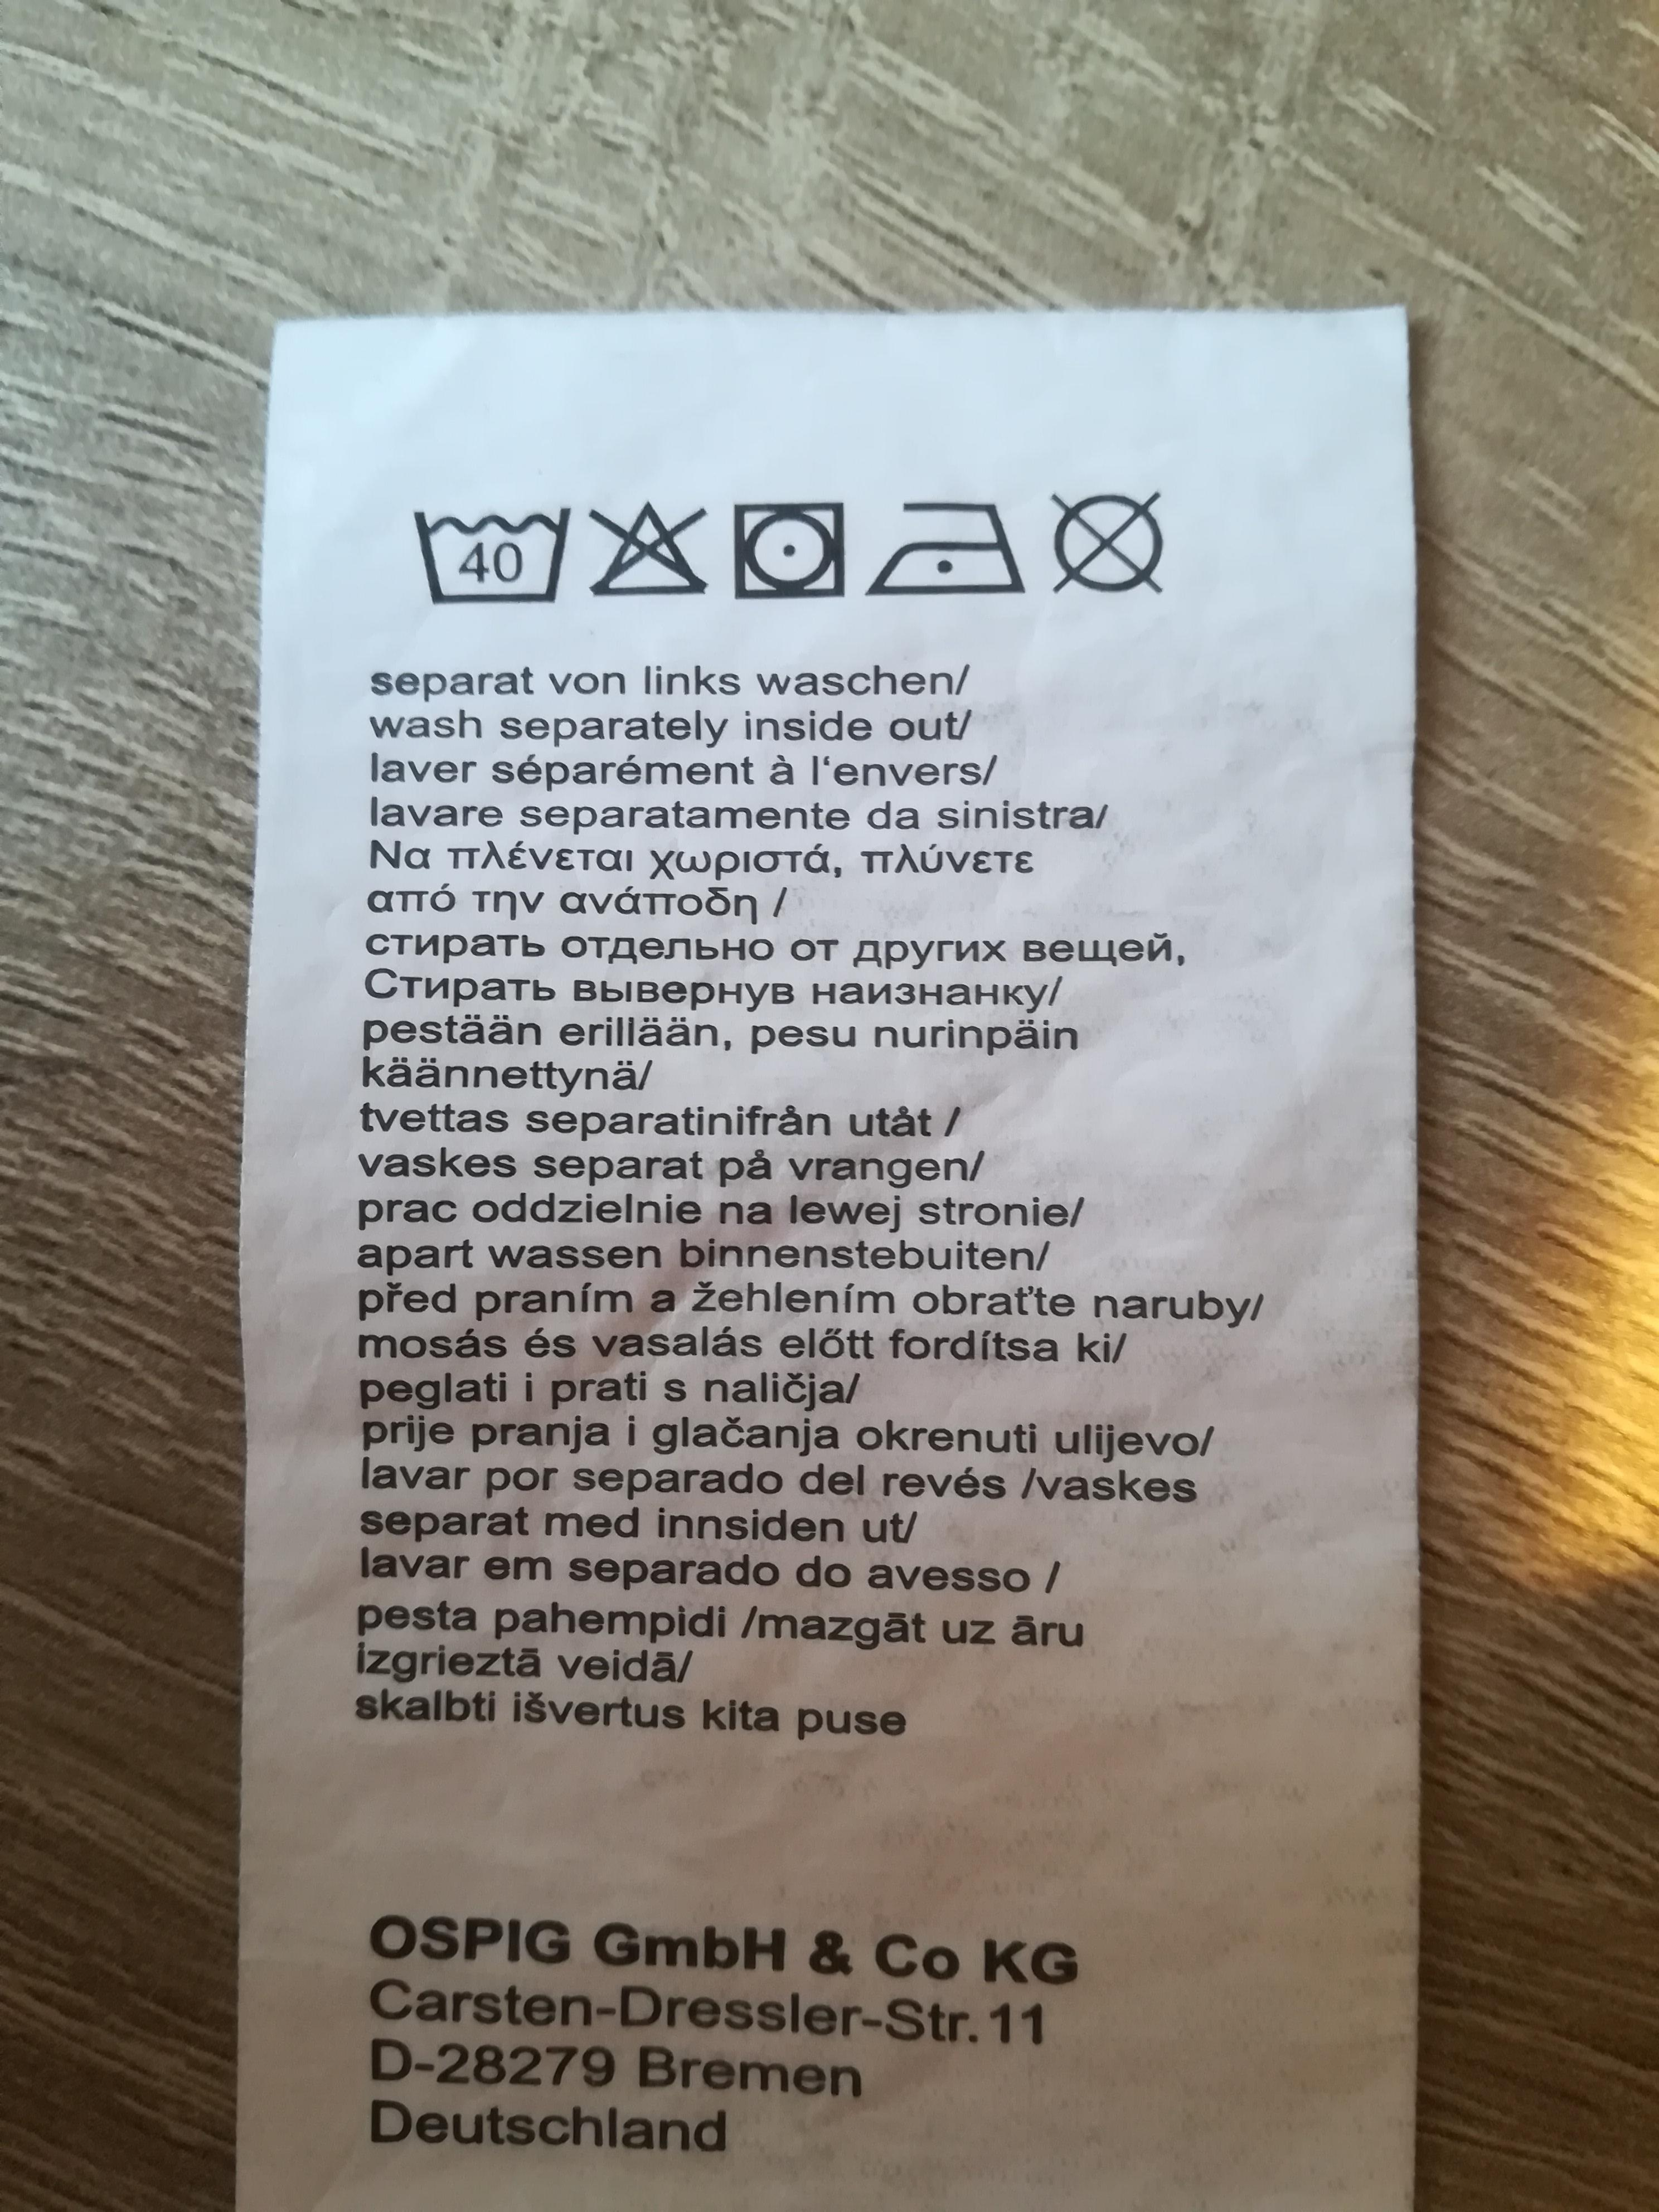40C: (405, 491, 575, 617)
DN_bleach: (587, 491, 713, 607)
DN_dry_clean: (1042, 478, 1176, 604)
iron_low: (873, 491, 1033, 609)
tumble_dry_low: (727, 486, 858, 619)
